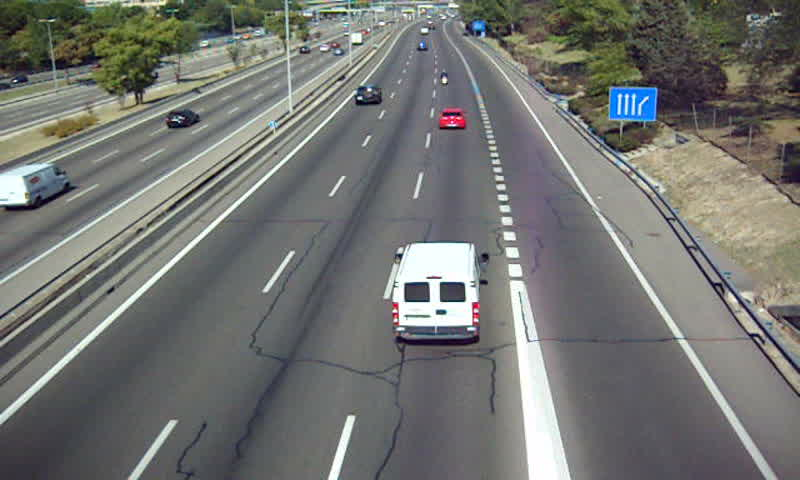car: (438, 109, 467, 129), (355, 84, 381, 106)
motorcycle: (438, 70, 451, 85)
van: (391, 242, 479, 342)
